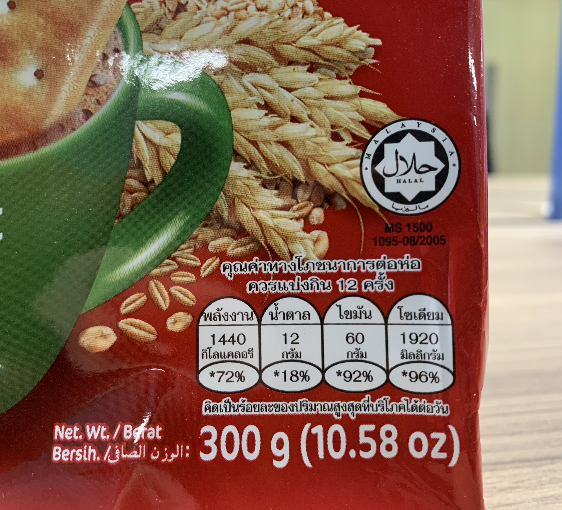halal: (380, 142, 438, 198)
